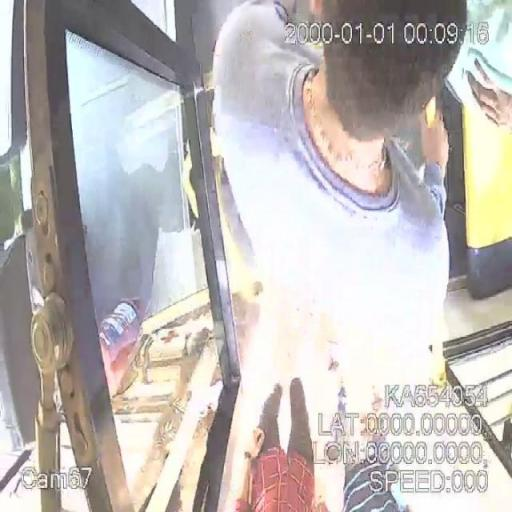persona: (205, 1, 469, 391), (237, 371, 321, 512), (334, 373, 415, 512)
